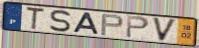A: (72, 12, 101, 36)
P: (126, 15, 151, 39), (99, 14, 125, 37)
S: (49, 9, 73, 34)
T: (25, 6, 46, 31)
V: (151, 16, 178, 43)
